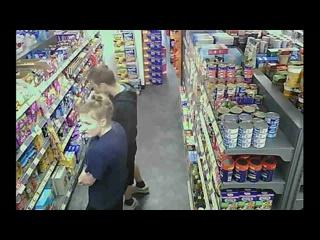Normal: (86, 65, 144, 208), (76, 91, 128, 209)
